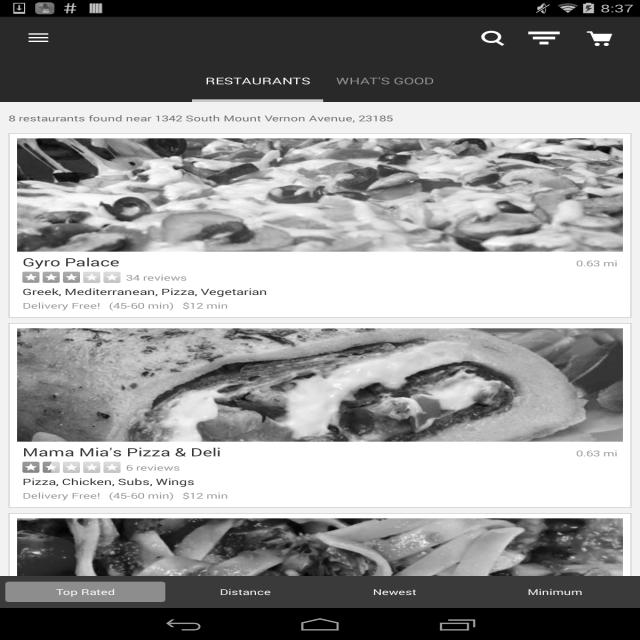ImageButton: (9, 17, 68, 59)
ImageView: (17, 138, 623, 252), (17, 328, 623, 442), (17, 518, 623, 632), (22, 272, 120, 283), (22, 462, 120, 473), (582, 27, 619, 49), (85, 38, 86, 38)
TextView: (0, 102, 640, 128), (22, 253, 572, 269), (22, 443, 572, 459), (22, 286, 618, 298), (22, 476, 618, 488), (518, 22, 570, 54), (468, 22, 518, 54), (205, 74, 310, 87), (336, 74, 435, 87), (23, 300, 100, 311), (23, 490, 100, 501), (109, 300, 174, 311), (109, 490, 174, 501), (126, 272, 187, 283), (126, 462, 180, 473), (182, 300, 228, 311), (182, 490, 228, 501), (576, 258, 618, 268), (576, 448, 618, 458)
